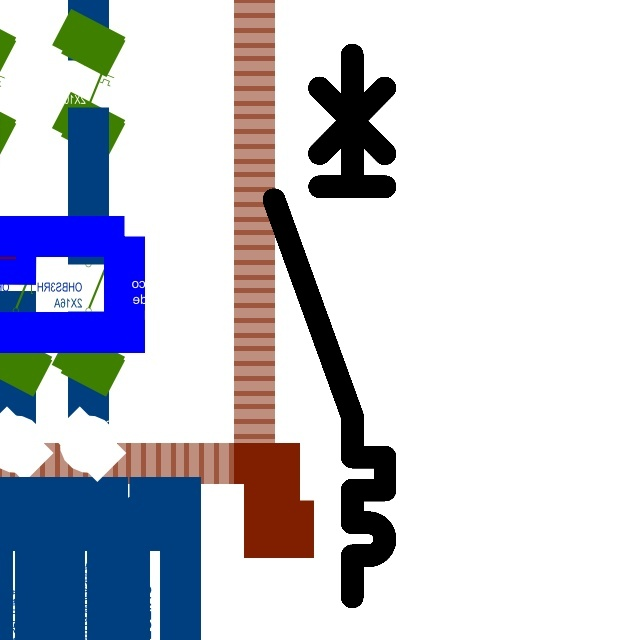interruptor_termomagnetico: (260, 41, 399, 611)
